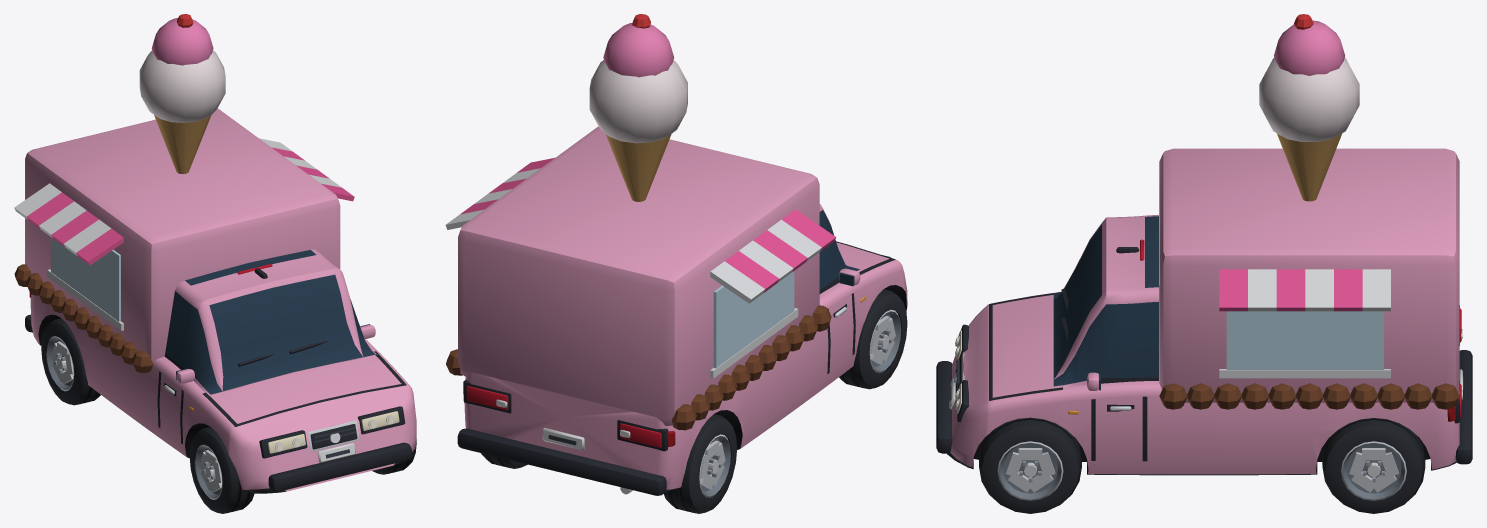
The model's file is special-icecream.glb.
The picture shows the model from 3 angles, left to right: view 1: azimuth 30°, elevation 25°; view 2: azimuth 150°, elevation 25°; view 3: azimuth 270°, elevation 25°; orthographic projection. The views are drawn at different scales.
Parts seen in each view (by area): view 1: icecream_mesh, icecream; view 2: icecream_mesh, icecream; view 3: icecream_mesh, icecream.
Part boxes in pixels (<box>): icecream_mesh: <box>14,14,416,493</box>; icecream: <box>41,318,416,513</box>; icecream_mesh: <box>445,14,907,495</box>; icecream: <box>481,289,907,513</box>; icecream_mesh: <box>936,14,1472,475</box>; icecream: <box>979,417,1425,513</box>.
Bounding box in the file's own units: 2.49 × 3.47 × 3.75.
